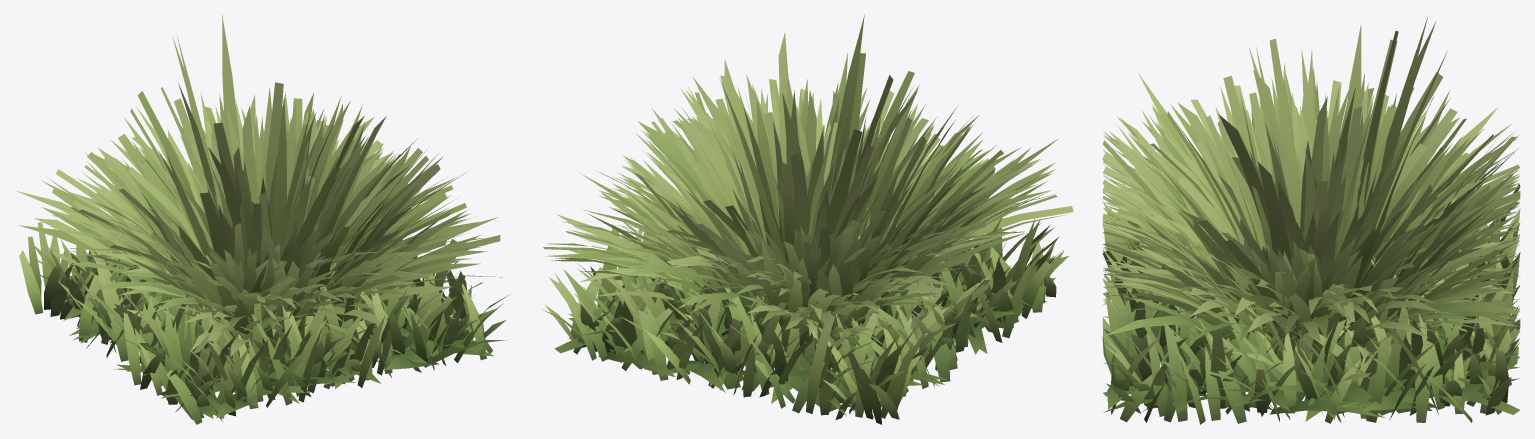
The model's file is flora_grass_1_tall_grass_tuft.glb.
3 renders of one model, left to right at view 1: azimuth 30°, elevation 25°; view 2: azimuth 150°, elevation 25°; view 3: azimuth 270°, elevation 25°, orthographic. The views are drawn at different scales.
Visible parts, largest first — view 1: blades; view 2: blades; view 3: blades.
Boxes of the visible parts, left/top/right/bottom form: blades: left=15, top=14, right=509, bottom=424; blades: left=542, top=15, right=1073, bottom=424; blades: left=1102, top=17, right=1520, bottom=424.
Bounding box in the file's own units: 1 × 0.8 × 1.
